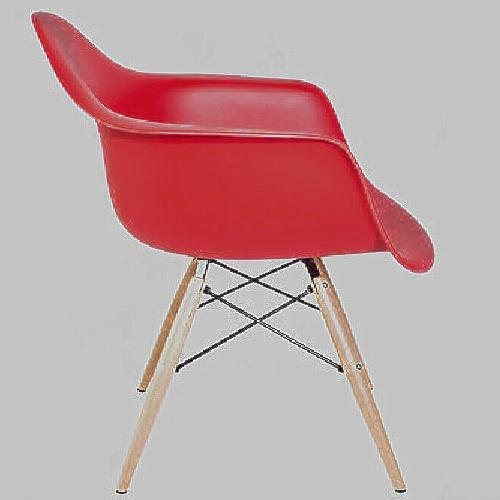chair: (32, 11, 450, 481)
